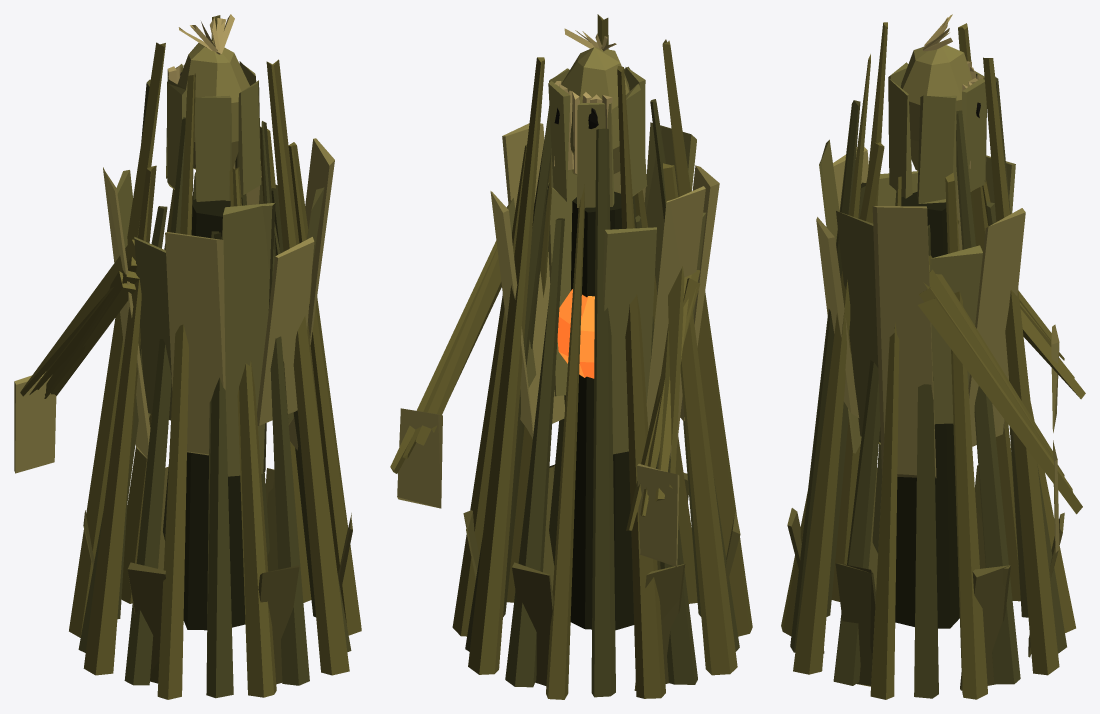
The model's file is creature_corn_husk.glb.
3 views of the same model, side by side, from view 1: azimuth 30°, elevation 25°; view 2: azimuth 150°, elevation 25°; view 3: azimuth 270°, elevation 25° (orthographic).
Visible parts, largest first — view 1: Stalks, Head, ArmL; view 2: Stalks, Head, ArmL, ArmR, Heart; view 3: Stalks, Head, ArmR, ArmL.
Part boxes in pixels (x1,y1,x2,y2): Stalks: (69,15,361,699); Head: (166,14,261,201); ArmL: (14,239,139,473); Stalks: (452,14,752,699); Head: (548,28,647,207); ArmL: (626,266,700,566); ArmR: (390,211,515,508); Heart: (557,289,594,378); Stalks: (781,22,1075,699); Head: (888,14,986,203); ArmR: (918,255,1082,552); ArmL: (957,219,1085,432).
Bounding box in the file's own units: 1.13 × 2.41 × 1.07.
